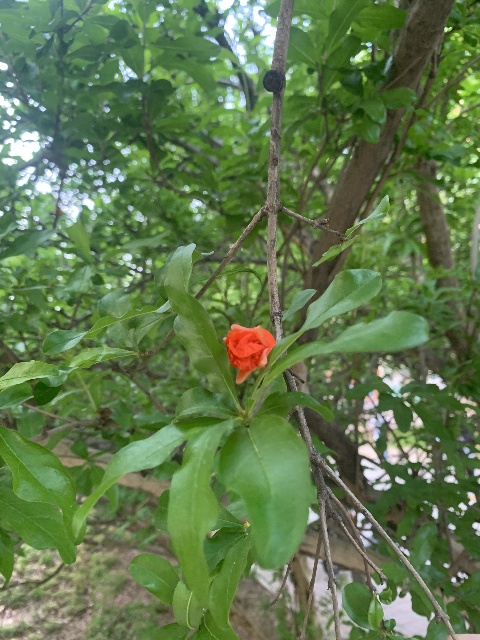flower: (222, 323, 276, 384)
